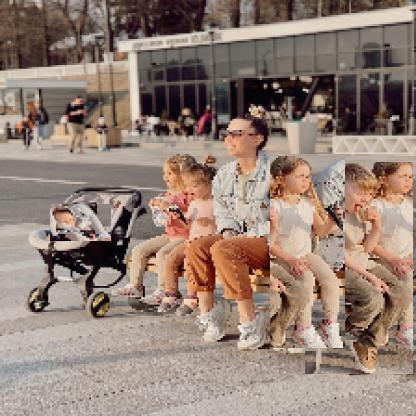child: (306, 163, 415, 376), (272, 155, 348, 350), (158, 154, 218, 318), (51, 205, 114, 243)
